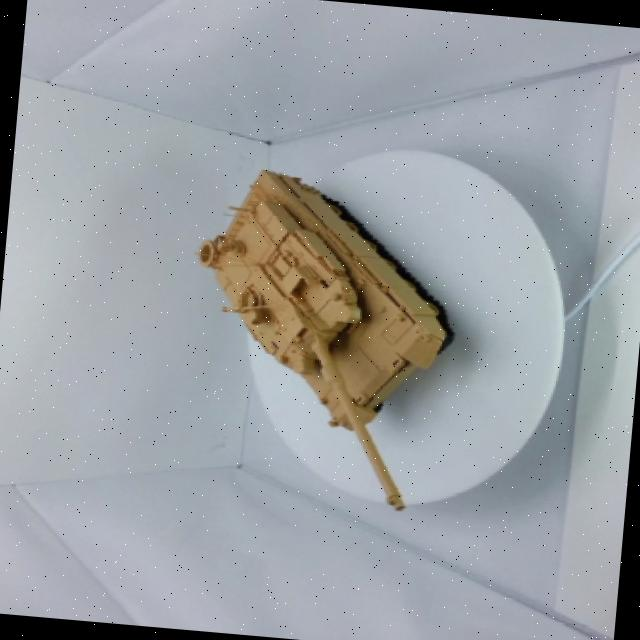korea tank: (153, 143, 494, 536)
